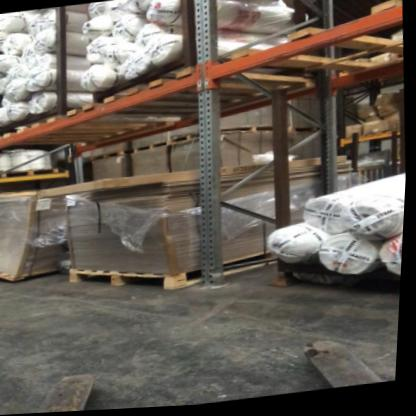vertical_damage: (202, 268, 230, 296)
